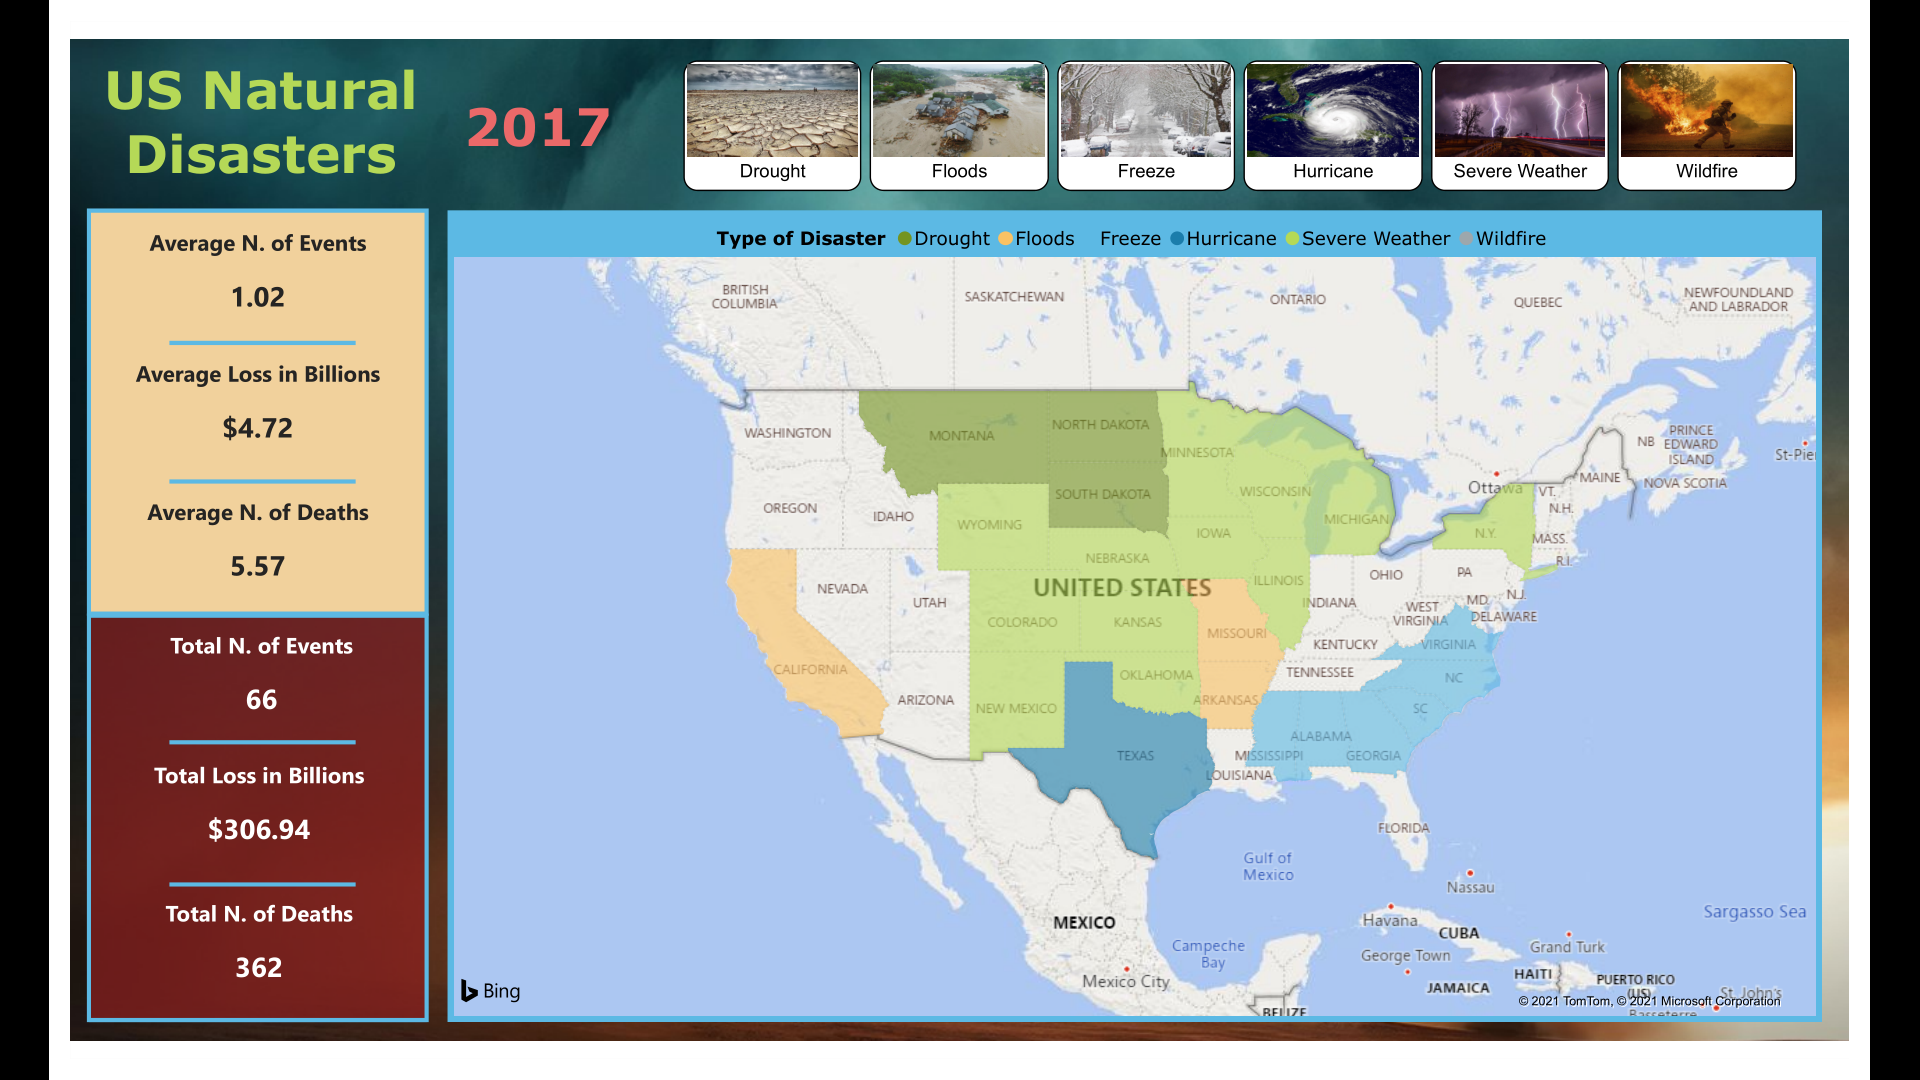

This screenshot's page, from the dashboard's own definition file:
{"tool":"powerbi","page":{"name":"State Report Map","canvas":[1280,720],"ordinal":0},"visuals":[{"type":"textbox","box":[9.4,7.3,255.7,111.7],"z":0},{"type":"textbox","box":[265,33.4,144,60.5],"z":1000},{"type":"ChicletSlicer1448559807354","fields":{"Category":["Natural Disasters in 2017.Type of Disaster"],"Image":["Natural Disasters in 2017.Image"],"Values":["Sum(Natural Disasters in 2017.Deaths)"]},"box":[433,7.3,817,111.7],"z":2000},{"type":"basicShape","box":[9.1,118.9,251.4,299],"z":3000},{"type":"basicShape","box":[9.1,409.6,251.4,299.9],"z":4000},{"type":"card","title":"Average N. of Events","fields":{"Values":["Avg(Natural Disasters in 2017.No. of Events)"]},"box":[9.1,135.3,251.4,81.4],"z":5000},{"type":"basicShape","box":[61.3,206.6,153.6,22.9],"z":6000},{"type":"basicShape","box":[61.3,308.1,153.6,20.1],"z":7000},{"type":"card","title":"Average Loss in Billions","fields":{"Values":["Avg(Natural Disasters in 2017.Losses Incurred ($B))"]},"box":[9.1,229.5,251.4,81.4],"z":8000},{"type":"card","title":"Average N. of Deaths","fields":{"Values":["Avg(Natural Disasters in 2017.Deaths)"]},"box":[9.1,328.2,251.4,81.4],"z":9000},{"type":"card","title":"Total N. of Events","fields":{"Values":["Sum(Natural Disasters in 2017.No. of Events)"]},"box":[11.9,424.2,251.4,81.4],"z":10000},{"type":"basicShape","box":[61.3,495.5,153.6,20.1],"z":11000},{"type":"basicShape","box":[61.3,599.8,153.6,17.4],"z":12000},{"type":"card","title":"Total Loss in Billions","fields":{"Values":["Sum(Natural Disasters in 2017.Losses Incurred ($B))"]},"box":[10,518.3,251.4,81.4],"z":13000},{"type":"card","title":"Total N. of Deaths","fields":{"Values":["Sum(Natural Disasters in 2017.Deaths)"]},"box":[10,617.1,251.4,81.4],"z":14000},{"type":"filledMap","fields":{"Category":["Natural Disasters in 2017.State"],"Series":["Natural Disasters in 2017.Type of Disaster"]},"box":[271.5,122.5,989.3,584],"z":15000}]}

Visuals, with their boxes in screenshot pixels (x1, y1, x2, y2), scaled from the page's 1280x720 canvas onto the 1920x1080 screenshot:
textbox: 14:11:398:178
textbox: 398:50:614:141
ChicletSlicer1448559807354 - Natural Disasters in 2017.Type of Disaster x Natural Disasters in 2017.Image: 650:11:1875:178
basicShape: 14:178:391:627
basicShape: 14:614:391:1064
"Average N. of Events" card: 14:203:391:325
basicShape: 92:310:322:344
basicShape: 92:462:322:492
"Average Loss in Billions" card: 14:344:391:466
"Average N. of Deaths" card: 14:492:391:614
"Total N. of Events" card: 18:636:395:758
basicShape: 92:743:322:773
basicShape: 92:900:322:926
"Total Loss in Billions" card: 15:777:392:900
"Total N. of Deaths" card: 15:926:392:1048
filledMap - Natural Disasters in 2017.State x Natural Disasters in 2017.Type of Disaster: 407:184:1891:1060
